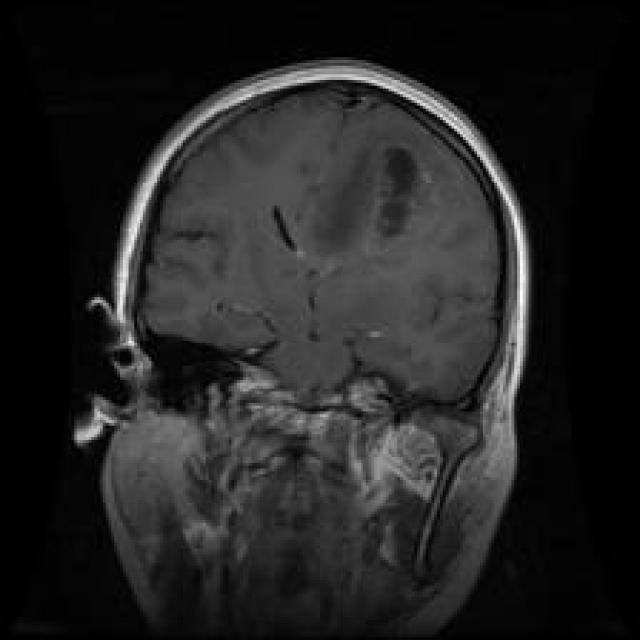glioma_tumor: (294, 123, 429, 284)
